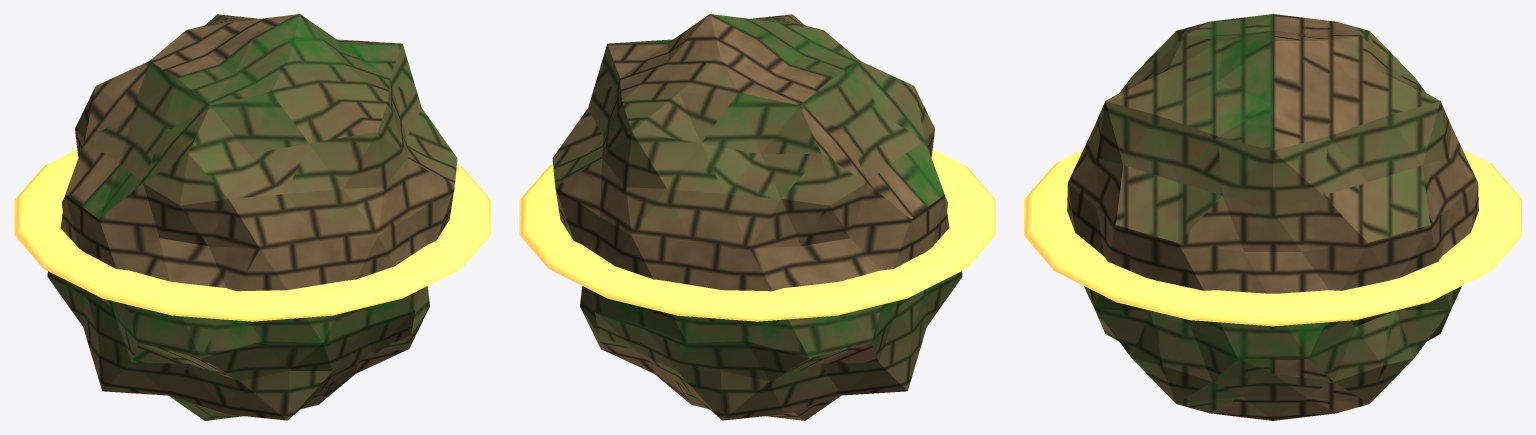
Rendered from prop_boulder.glb.
The picture shows the model from 3 angles, left to right: view 1: azimuth 30°, elevation 25°; view 2: azimuth 150°, elevation 25°; view 3: azimuth 270°, elevation 25°; orthographic projection. The views are drawn at different scales.
Parts seen in each view (by area): view 1: RollingBoulder; view 2: RollingBoulder; view 3: RollingBoulder.
Boxes of the visible parts, x1,y1,x2,y2 form: RollingBoulder: (14, 14, 490, 420); RollingBoulder: (519, 14, 995, 420); RollingBoulder: (1024, 14, 1521, 420).
Bounding box in the file's own units: 4.78 × 4.19 × 4.71.
Materials: 2 (1 with a texture image).
